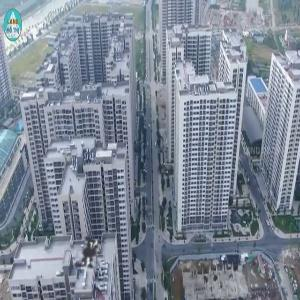drone: (40, 206, 135, 300)
